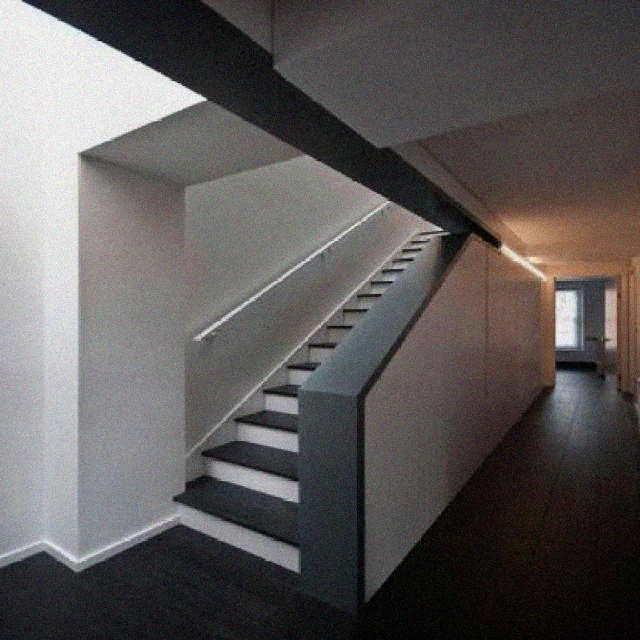stair: (145, 158, 480, 599)
